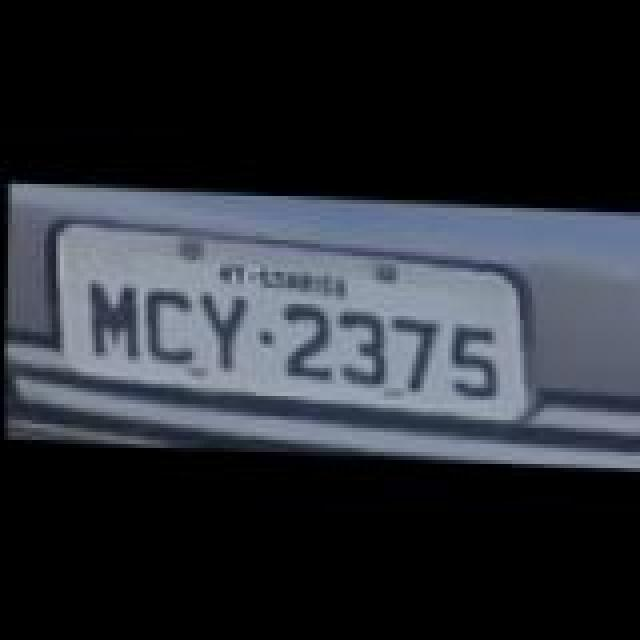2: (272, 304, 336, 384)
3: (330, 308, 390, 384)
5: (440, 324, 500, 396)
7: (386, 316, 446, 388)
C: (134, 284, 202, 364)
M: (74, 278, 142, 358)
Y: (192, 290, 256, 370)
